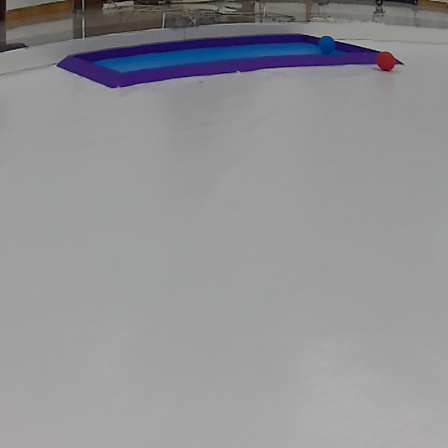blue: (318, 35, 338, 59)
blue_aim: (54, 31, 420, 90)
red: (377, 48, 400, 72)
